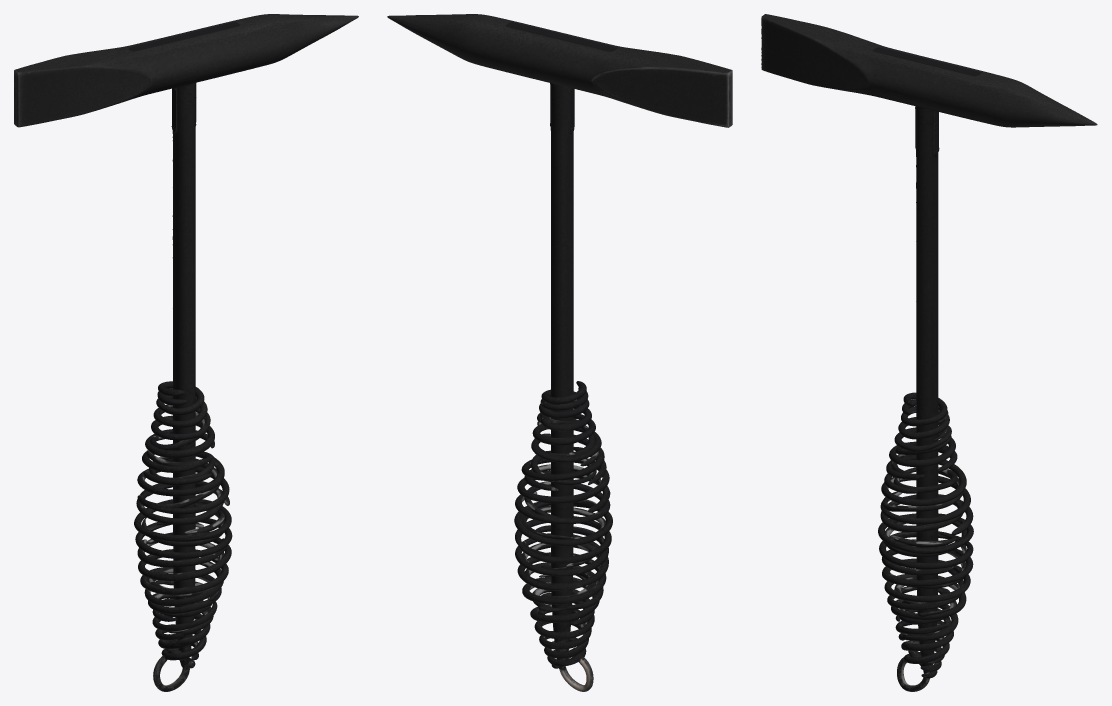
File: chiping-hammer.glb
3 renders of one model, left to right at view 1: azimuth 30°, elevation 25°; view 2: azimuth 150°, elevation 25°; view 3: azimuth 330°, elevation 25°, orthographic. The views are drawn at different scales.
Visible parts, largest first — view 1: mesh_node; view 2: mesh_node; view 3: mesh_node.
Boxes of the visible parts, x1=… form: mesh_node: x1=14, y1=14, x2=358, y2=691; mesh_node: x1=387, y1=14, x2=732, y2=691; mesh_node: x1=761, y1=14, x2=1097, y2=691.
Bounding box in the file's own units: 1.01 × 1.84 × 0.246.
Materials: 1 (1 with a texture image).
